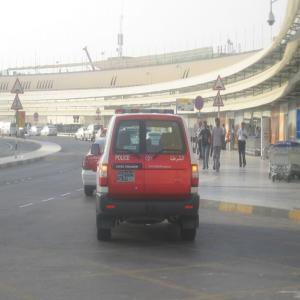Vehicle-registration-plate: (118, 171, 136, 183)
